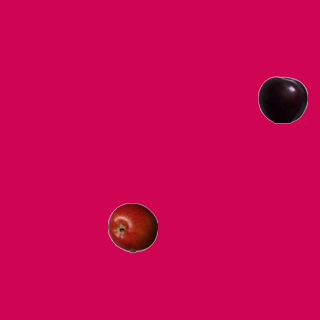Apple Braeburn: (107, 202, 157, 252)
Cherry Wax Black: (257, 74, 307, 124)
